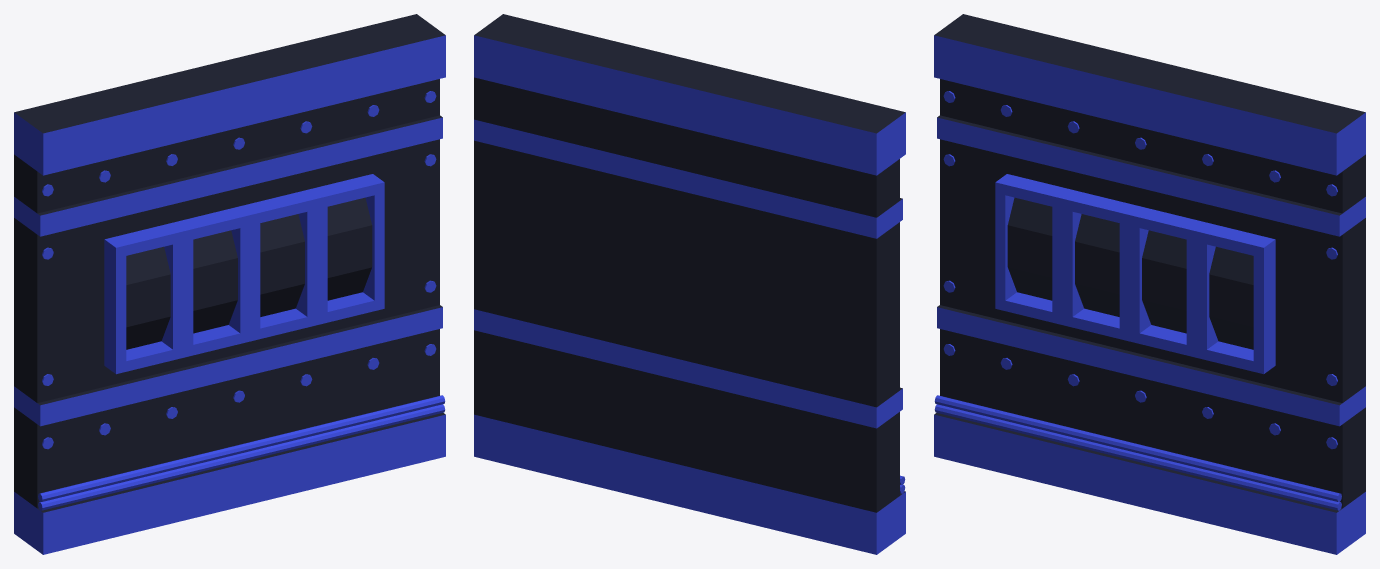
Rendered from Wall_C.fbx.
3 renders of one model, left to right at view 1: azimuth 30°, elevation 25°; view 2: azimuth 150°, elevation 25°; view 3: azimuth 330°, elevation 25°, orthographic.
Parts seen in each view (by area): view 1: Wall_C; view 2: Wall_C; view 3: Wall_C.
Part boxes in pixels (bbox=[...]): Wall_C: bbox=[14, 14, 445, 554]; Wall_C: bbox=[474, 14, 905, 554]; Wall_C: bbox=[934, 14, 1365, 554].
Bounding box in the file's own units: 200 × 200 × 30.
